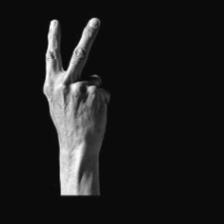two: (41, 15, 110, 175)
